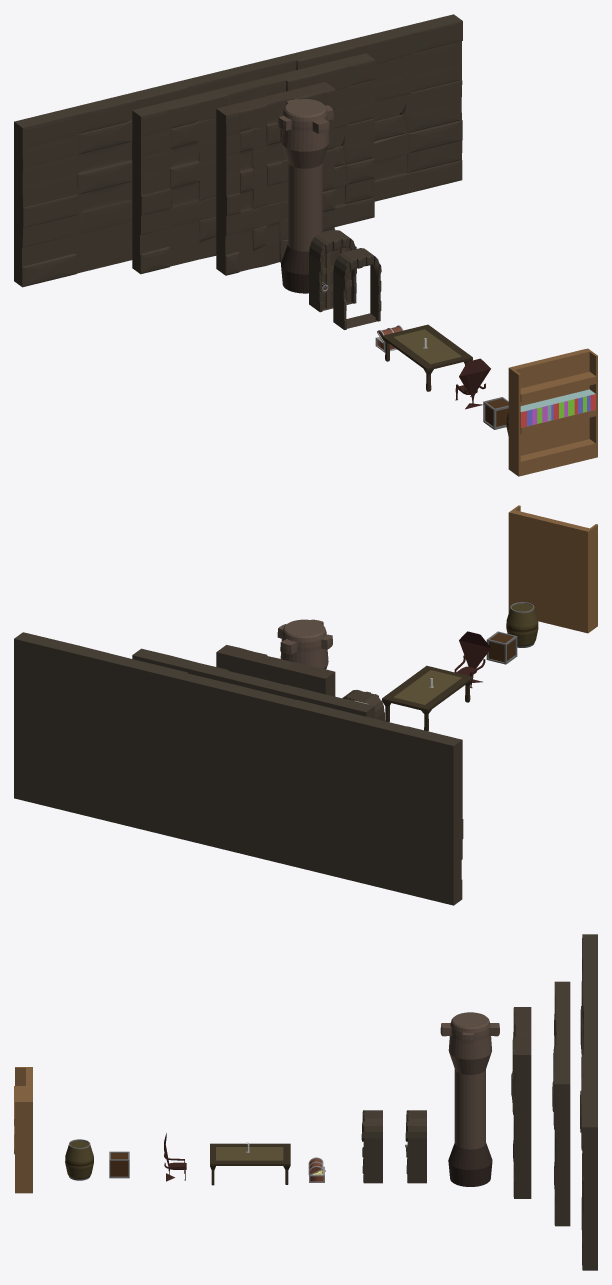
File: base_deanjon.fbx
The picture shows the model from 3 angles, top to bottom: view 1: azimuth 30°, elevation 25°; view 2: azimuth 150°, elevation 25°; view 3: azimuth 270°, elevation 25°; orthographic projection. The views are drawn at different scales.
Parts seen in each view (by area): view 1: big_wall, medieum_wall, tiny_wall, tagère, pillar, close_door, table, open_door, chair, box; view 2: big_wall, tagère, medieum_wall, tiny_wall, table, pillar, vin, chair, box, open_door; view 3: pillar, big_wall, medieum_wall, tiny_wall, tagère, table, close_door, open_door, vin, box.
Part boxes in pixels (x1,y1,x2,y2): big_wall: [14, 14, 462, 287]; medieum_wall: [132, 53, 375, 274]; tiny_wall: [216, 82, 335, 275]; tagère: [508, 348, 597, 476]; pillar: [278, 99, 333, 293]; close_door: [309, 230, 356, 312]; table: [382, 324, 472, 391]; open_door: [333, 248, 381, 329]; chair: [455, 358, 490, 409]; box: [483, 397, 508, 429]; big_wall: [14, 632, 463, 905]; tagère: [508, 505, 597, 633]; medieum_wall: [132, 648, 374, 718]; tiny_wall: [216, 645, 335, 696]; table: [382, 665, 472, 731]; pillar: [277, 619, 332, 669]; vin: [506, 602, 538, 647]; chair: [454, 631, 490, 688]; box: [486, 631, 517, 664]; open_door: [342, 690, 384, 720]; pillar: [440, 1012, 499, 1186]; big_wall: [580, 934, 597, 1270]; medieum_wall: [552, 981, 570, 1226]; tiny_wall: [511, 1007, 531, 1198]; tagère: [14, 1067, 32, 1193]; table: [210, 1143, 290, 1185]; close_door: [405, 1110, 426, 1183]; open_door: [361, 1110, 382, 1183]; vin: [65, 1139, 93, 1180]; box: [109, 1151, 129, 1178].
Bounding box in the file's own units: 6413 × 2465 × 8209.
